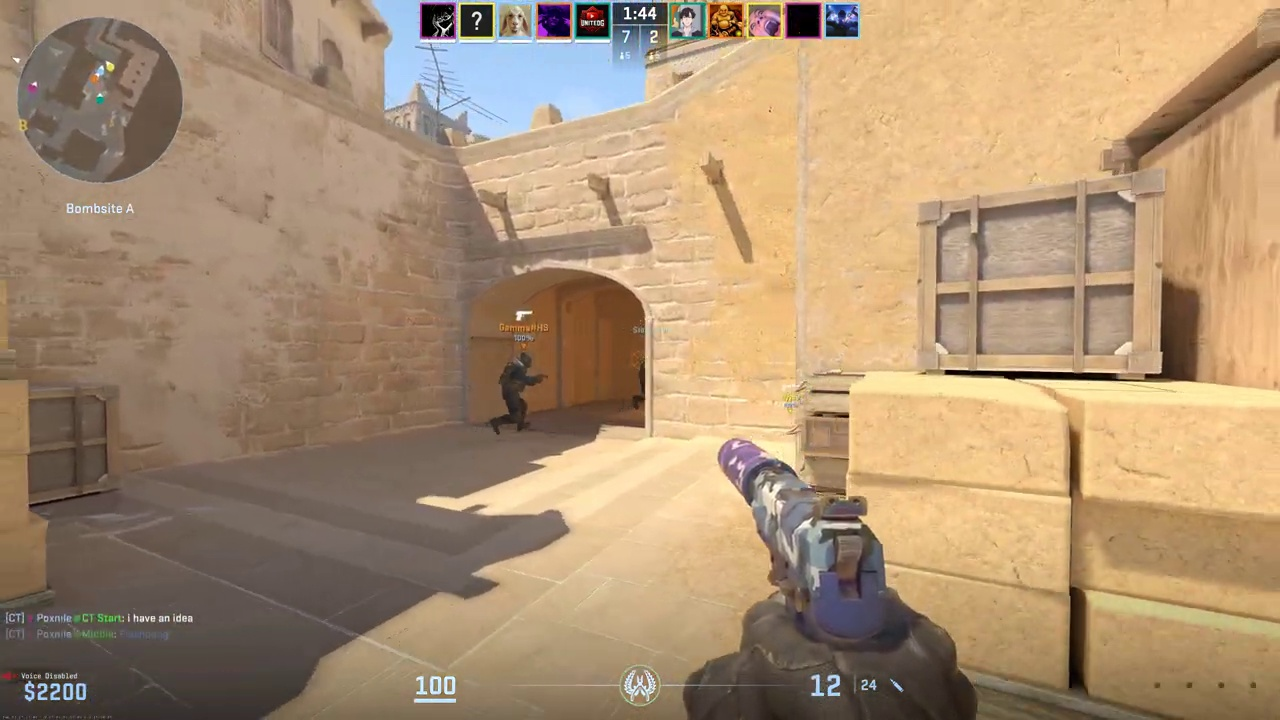CT: (495, 352, 532, 435)
